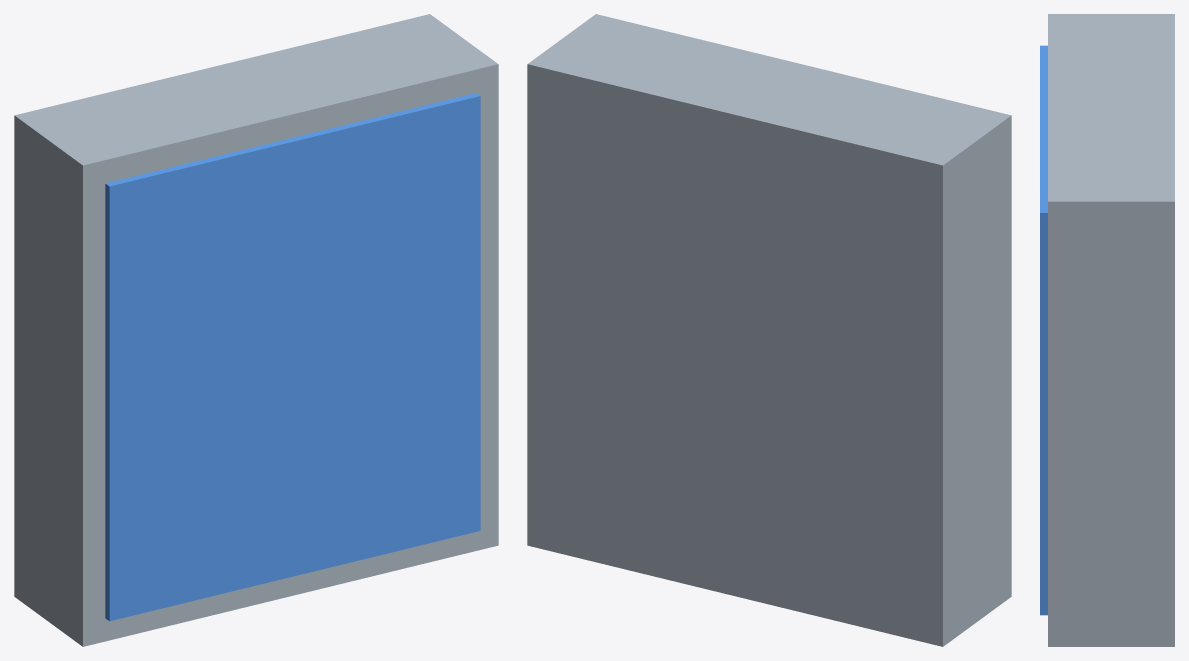
The model's file is acc-merv13-filter-rack.glb.
The picture shows the model from 3 angles, left to right: view 1: azimuth 30°, elevation 25°; view 2: azimuth 150°, elevation 25°; view 3: azimuth 270°, elevation 25°; orthographic projection. The views are drawn at different scales.
Visible parts, largest first — view 1: hvac-fitting-merv13-filter-rack; view 2: hvac-fitting-merv13-filter-rack; view 3: hvac-fitting-merv13-filter-rack.
Boxes of the visible parts, x1,y1,x2,y2 form: hvac-fitting-merv13-filter-rack: (14, 14, 498, 646); hvac-fitting-merv13-filter-rack: (527, 14, 1011, 646); hvac-fitting-merv13-filter-rack: (1040, 14, 1174, 646).
Bounding box in the file's own units: 0.56 × 0.62 × 0.17.
